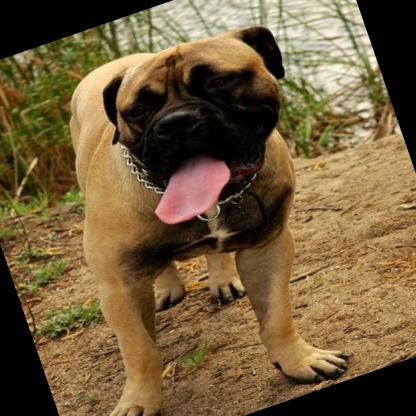bull_mastiff: (0, 5, 385, 416)
